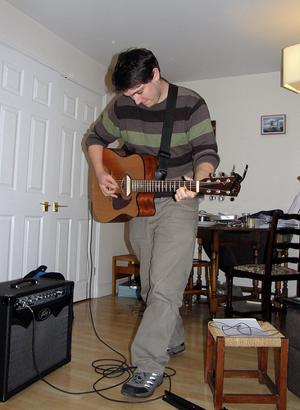person: (86, 48, 221, 398)
